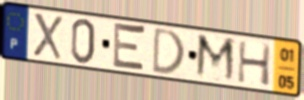0: (69, 17, 98, 66)
D: (150, 25, 187, 76)
E: (110, 19, 148, 75)
H: (236, 38, 274, 88)
M: (193, 31, 238, 86)
X: (32, 11, 64, 63)
